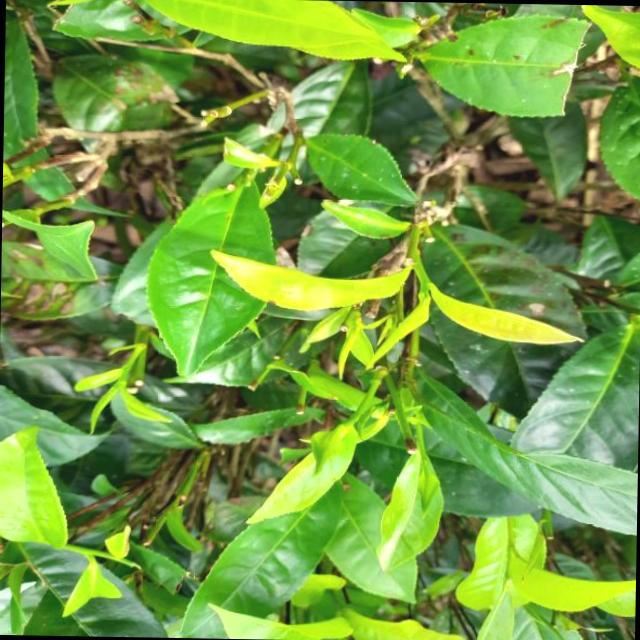Stem: (420, 280, 430, 288)
